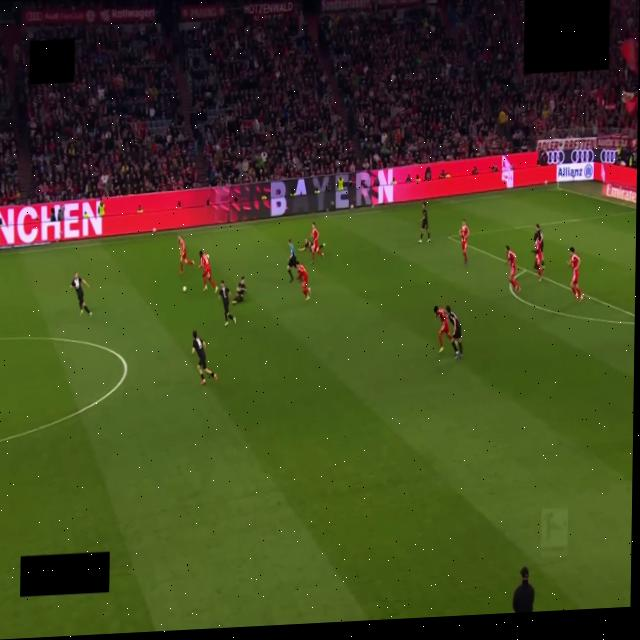ball: (183, 286, 187, 292)
player: (192, 331, 217, 384), (445, 306, 462, 358), (71, 273, 91, 315), (568, 247, 583, 301), (434, 305, 451, 352), (199, 251, 218, 292), (219, 280, 236, 325), (506, 245, 520, 292), (178, 236, 193, 273), (311, 223, 323, 263), (459, 220, 469, 266), (419, 202, 430, 243), (298, 264, 310, 301), (533, 237, 543, 281), (233, 276, 246, 303), (535, 224, 543, 254), (300, 239, 312, 252)
referee: (288, 239, 297, 281)
